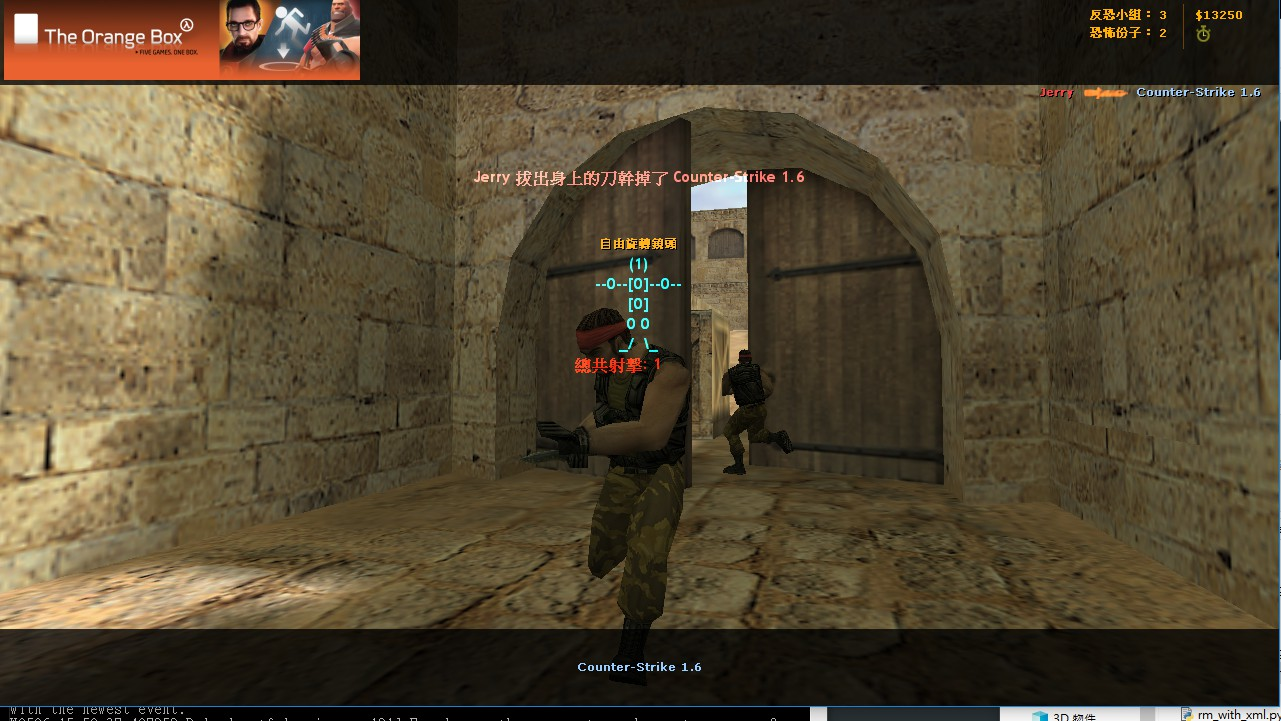person: (538, 313, 682, 630), (711, 342, 797, 483)
